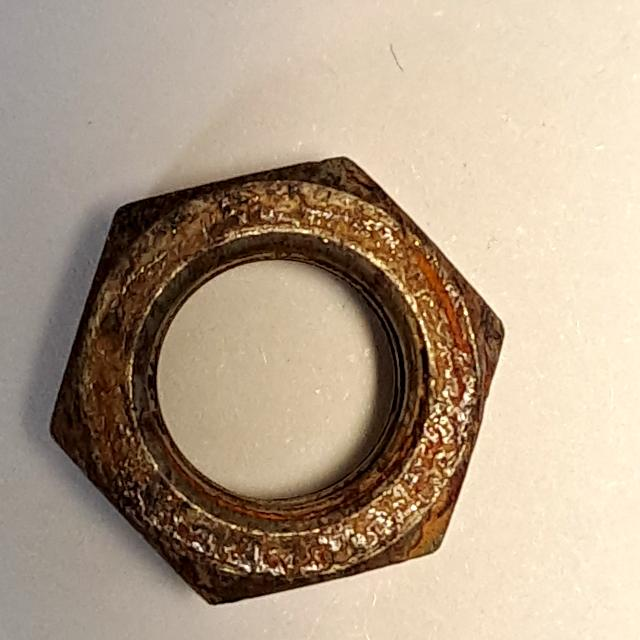Rust: (40, 143, 519, 626)
